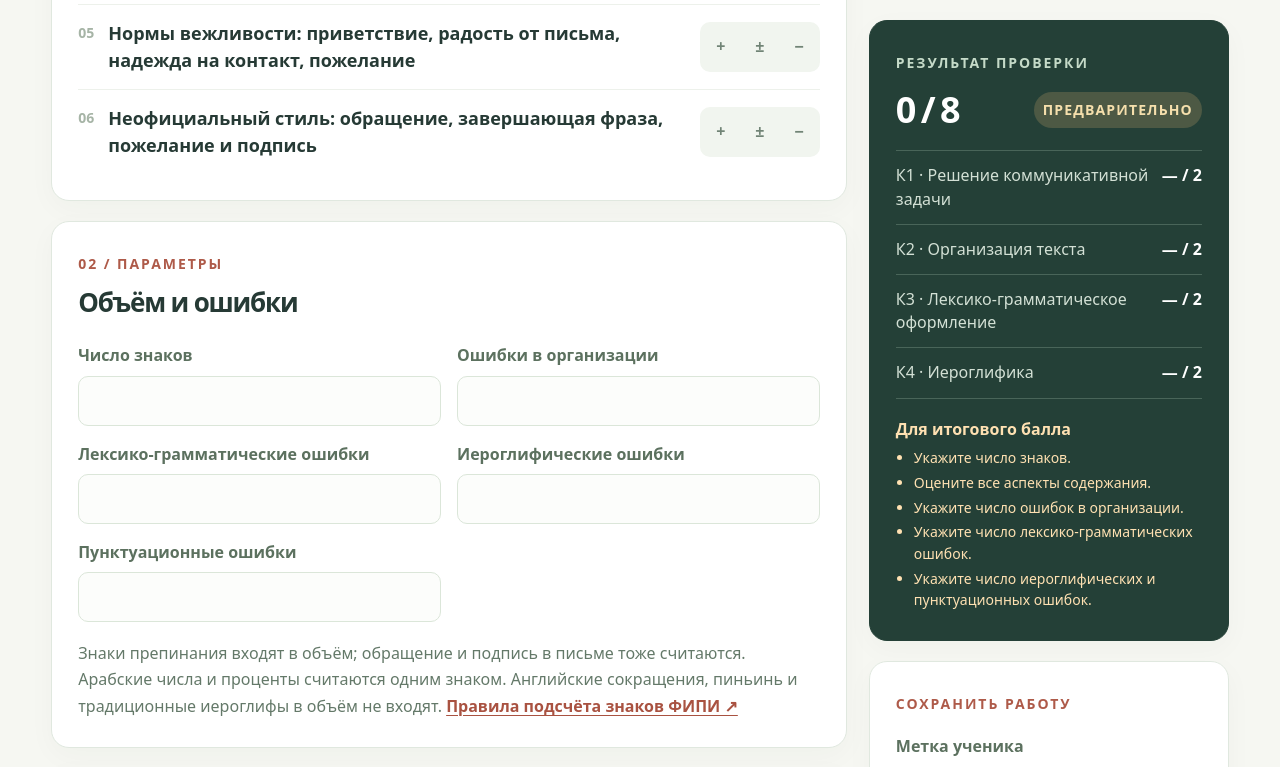
Test case: teacher checking flow › explains a calculated organization point using the entered error count
(page scrolled)
Type "2" into the number field labelled "Ошибки в организации" at (638, 401), box [457,376,820,426]
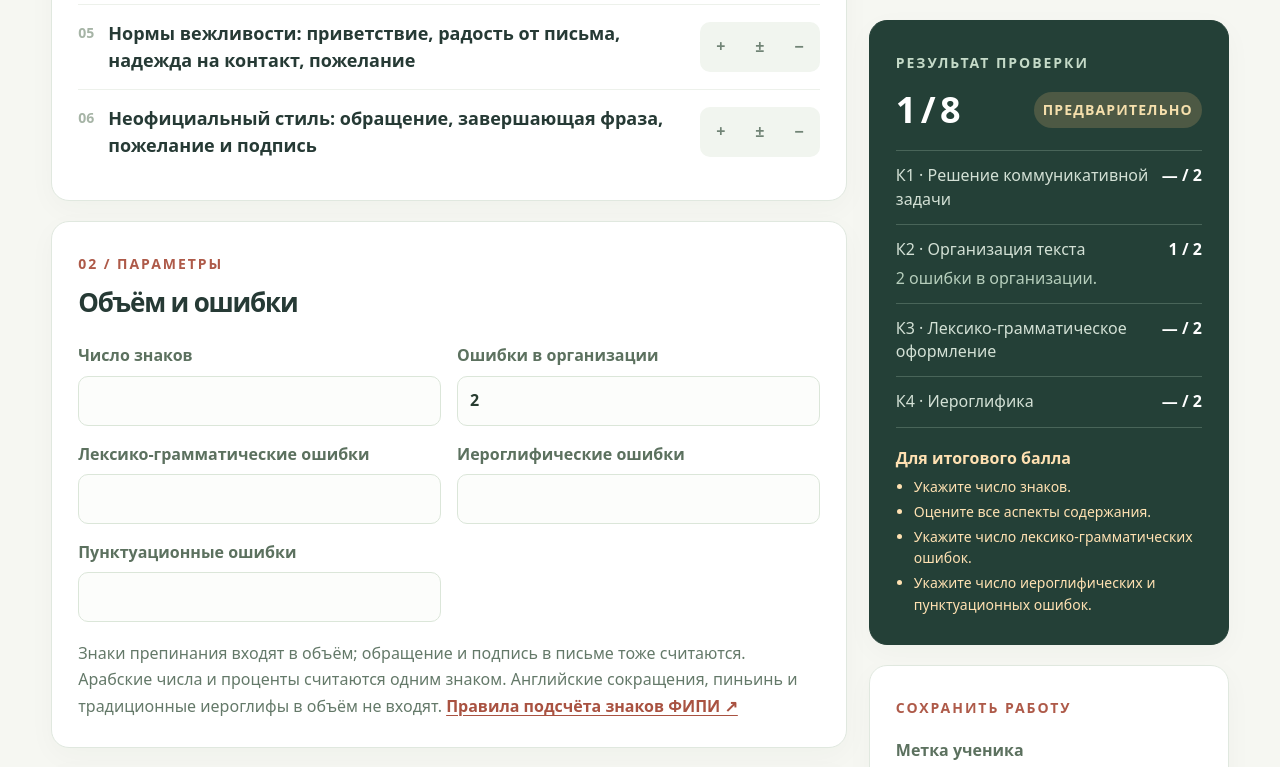
Check: the text "2 ошибки в организации." is shown, box [896,266,1097,290]
